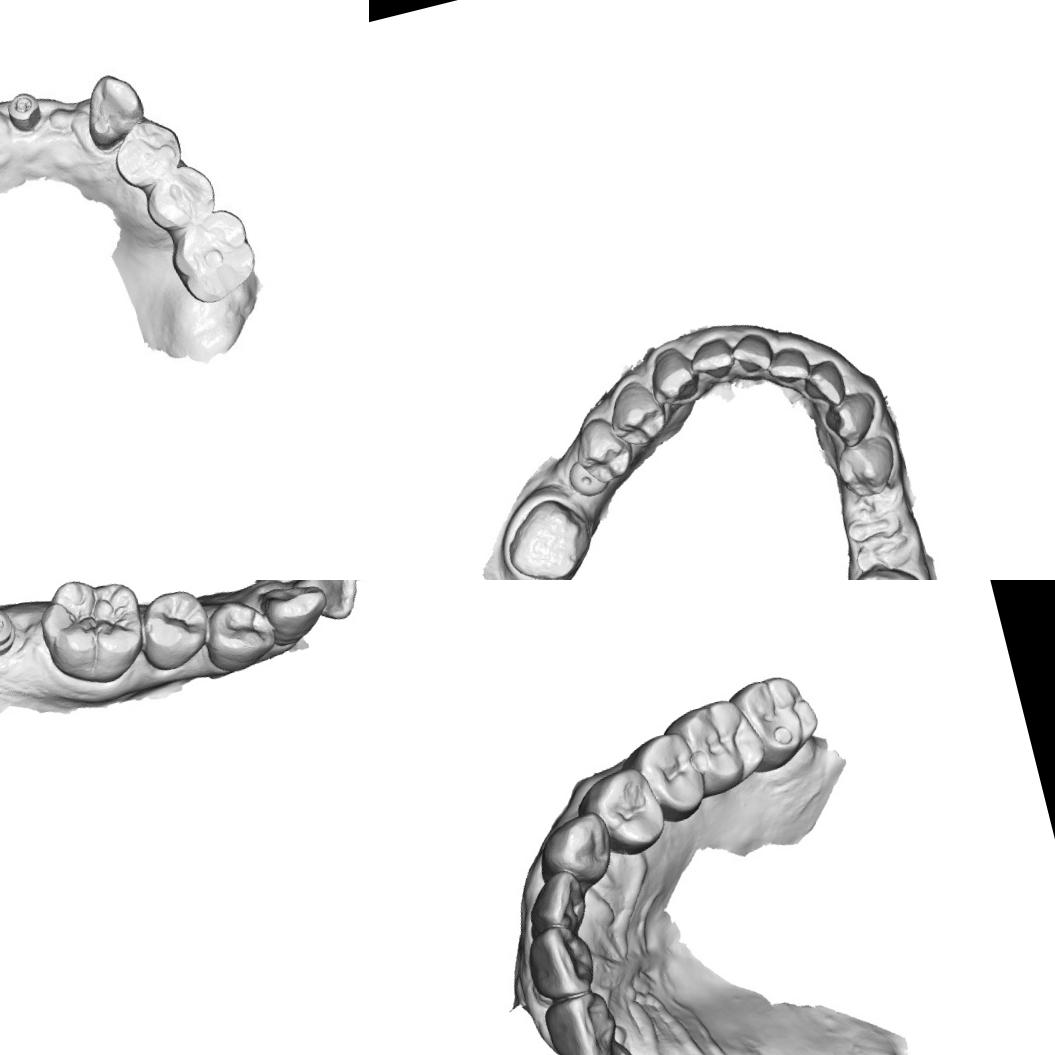canine: (530, 806, 622, 896), (75, 69, 147, 146), (258, 580, 332, 646), (818, 384, 888, 452), (641, 342, 705, 410)
crown: (493, 486, 603, 580)
implant: (0, 84, 48, 140), (564, 455, 606, 501)
implant_minus: (0, 599, 23, 664)
incisor: (518, 918, 599, 1006), (537, 985, 623, 1055), (518, 866, 590, 939), (299, 580, 367, 627), (684, 331, 740, 387), (724, 326, 780, 382), (796, 356, 850, 414), (762, 341, 815, 394), (577, 1039, 649, 1055)
molar: (28, 580, 155, 696), (660, 690, 771, 806), (724, 667, 828, 778), (172, 208, 260, 294), (835, 556, 935, 580)
premolar: (570, 762, 672, 866), (619, 726, 709, 832), (129, 581, 221, 678), (197, 588, 283, 676), (568, 410, 640, 490), (601, 373, 672, 451), (829, 430, 902, 503), (113, 117, 185, 189), (143, 168, 216, 227)
